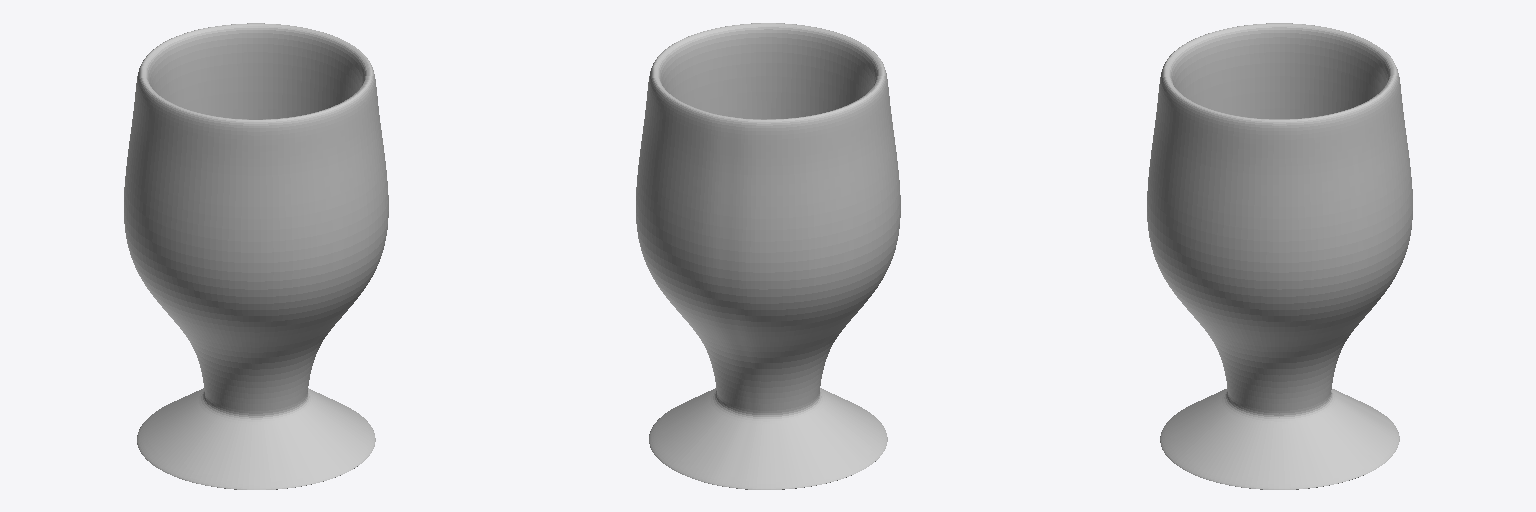
Rendered from cup.obj.
3 views of the same model, side by side, from view 1: azimuth 30°, elevation 25°; view 2: azimuth 150°, elevation 25°; view 3: azimuth 270°, elevation 25° (orthographic).
Parts seen in each view (by area): view 1: Cylinder; view 2: Cylinder; view 3: Cylinder.
Boxes of the visible parts, box(x1,y1,x2,y2) form: Cylinder: box(124, 23, 388, 489); Cylinder: box(636, 23, 900, 489); Cylinder: box(1147, 23, 1412, 489).
Bounding box in the file's own units: 2.12 × 3.25 × 2.13.